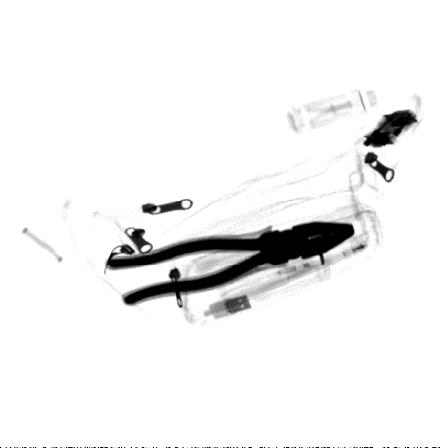Pliers: (104, 221, 356, 307)
